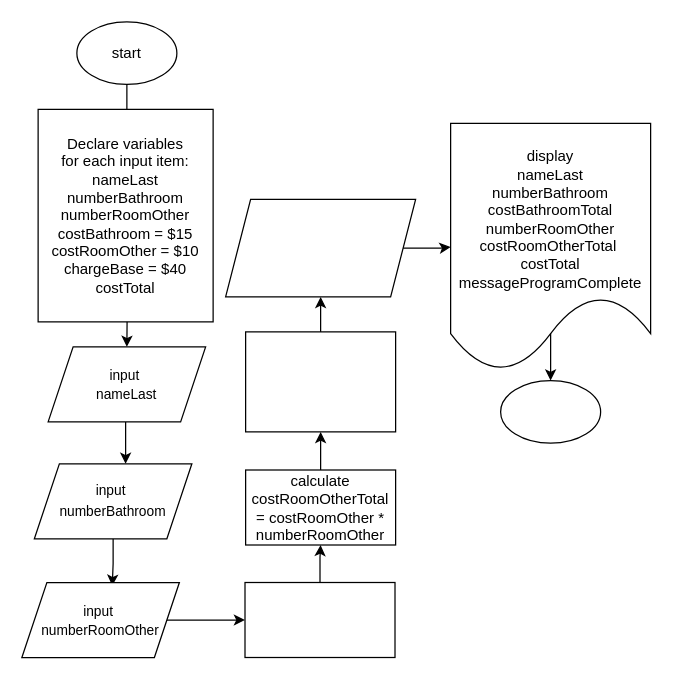
Some shapes in this 673 by 680 pixel diagram are drawn without their labels. The shapes that lost their labels are listed below. From the top down, each one's centre as x and y in pixels, then its label:
the point at 320,247: print costBathroomTotal costRoomOtherTotal costTotal
the point at 320,381: calculate costTotal = chargeBase + costBathroomTotal + costRoomOtherTotal
the point at 550,411: stop
the point at 319,619: calculate costBathroomTotal = costBathroom * numberBathroom
